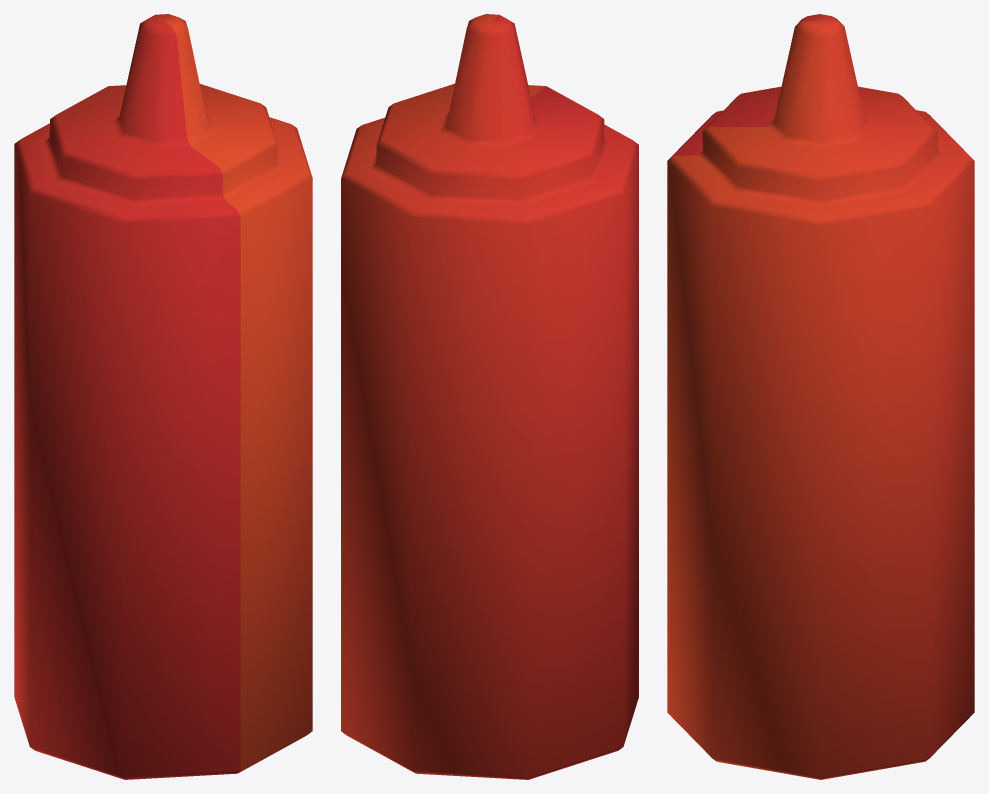
The model's file is Ketchup.fbx.
3 renders of one model, left to right at view 1: azimuth 30°, elevation 25°; view 2: azimuth 150°, elevation 25°; view 3: azimuth 270°, elevation 25°, orthographic.
Visible parts, largest first — view 1: Ketchup; view 2: Ketchup; view 3: Ketchup.
Part boxes in pixels (x1,y1,x2,y2): Ketchup: (14,14,312,779); Ketchup: (341,14,638,779); Ketchup: (667,14,974,779).
Size of the model in its own units: 0.1511 by 0.1511 by 0.3775.
